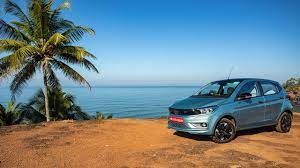Tiago: (167, 77, 295, 146)
